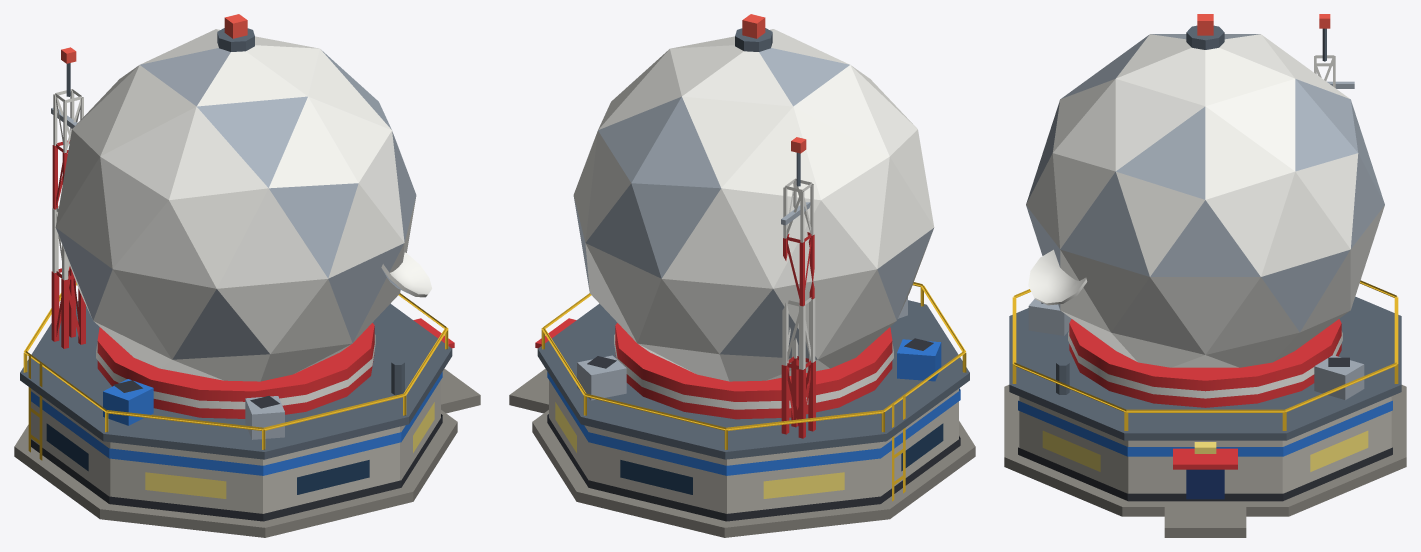
File: radar_dome.glb
3 renders of one model, left to right at view 1: azimuth 30°, elevation 25°; view 2: azimuth 150°, elevation 25°; view 3: azimuth 270°, elevation 25°, orthographic. The views are drawn at different scales.
Parts seen in each view (by area): view 1: Body; view 2: Body; view 3: Body.
Boxes of the visible parts, left/top/right/bottom form: Body: left=14, top=14, right=480, bottom=537; Body: left=509, top=14, right=975, bottom=537; Body: left=1004, top=14, right=1406, bottom=537.
Size of the model in its own units: 1.66 by 1.68 by 1.48.
